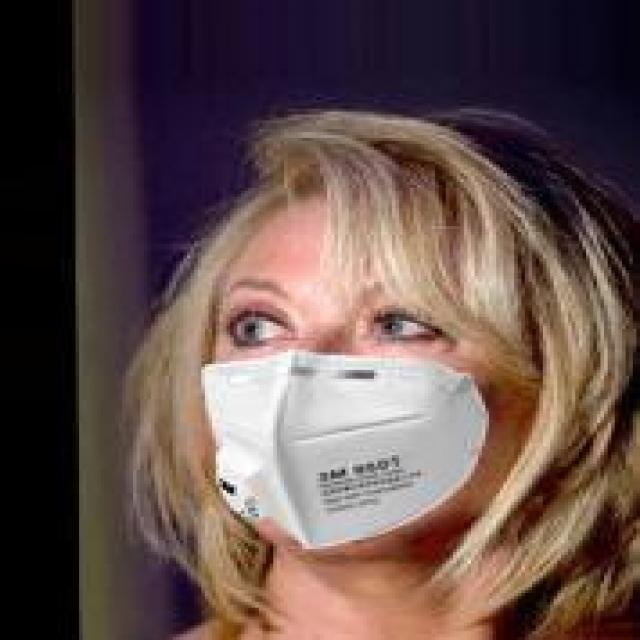mask: (190, 62, 608, 596)
